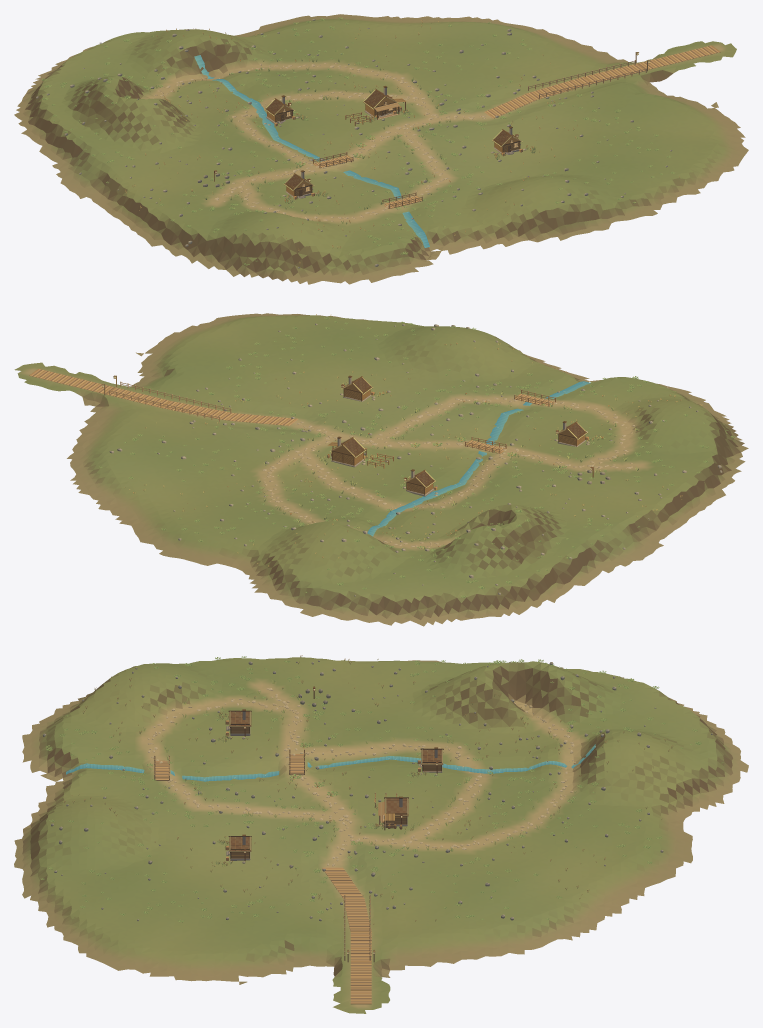
The model's file is extension_amber.glb.
3 views of the same model, one above another, from view 1: azimuth 30°, elevation 25°; view 2: azimuth 150°, elevation 25°; view 3: azimuth 270°, elevation 25° (orthographic). The views are drawn at different scales.
Visible parts, largest first — view 1: Erdrelief · Bernsteinhain · -17,1, Erdrelief · Bernsteinhain · -14,-2, Erdrelief · Bernsteinhain · -16,-2, Erdrelief · Bernsteinhain · -17,-1, Erdrelief · Bernsteinhain · -15,2, Erdrelief · Bernsteinhain · -17,0, Erdrelief · Bernsteinhain · -13,1, Erdrelief · Bernsteinhain · -13,-1, Erdrelief · Bernsteinhain · -14,2, Erdrelief · Bernsteinhain · -15,-2, Erdrelief · Bernsteinhain · -16,1, Erdrelief · Bernsteinhain · -13,-2 (+34 smaller); view 2: Erdrelief · Bernsteinhain · -17,2, Erdrelief · Bernsteinhain · -17,1, Erdrelief · Bernsteinhain · -16,3, Erdrelief · Bernsteinhain · -17,0, Erdrelief · Bernsteinhain · -17,-1, Erdrelief · Bernsteinhain · -13,-1, Erdrelief · Bernsteinhain · -13,2, Erdrelief · Bernsteinhain · -14,-1, Erdrelief · Bernsteinhain · -14,2, Erdrelief · Bernsteinhain · -13,1, Erdrelief · Bernsteinhain · -15,3, Erdrelief · Bernsteinhain · -16,2 (+32 smaller); view 3: Erdrelief · Bernsteinhain · -16,1, Erdrelief · Bernsteinhain · -16,2, Erdrelief · Bernsteinhain · -15,2, Erdrelief · Bernsteinhain · -12,-1, Erdrelief · Bernsteinhain · -16,-1, Erdrelief · Bernsteinhain · -14,2, Erdrelief · Bernsteinhain · -16,0, Erdrelief · Bernsteinhain · -13,1, Erdrelief · Bernsteinhain · -14,0, Erdrelief · Bernsteinhain · -14,-1, Erdrelief · Bernsteinhain · -13,-1, Erdrelief · Bernsteinhain · -13,2 (+32 smaller).
Part boxes in pixels (x1,y1,x2,y2): Erdrelief · Bernsteinhain · -17,1: (44, 94, 175, 198); Erdrelief · Bernsteinhain · -14,-2: (478, 175, 622, 242); Erdrelief · Bernsteinhain · -16,-2: (287, 218, 428, 284); Erdrelief · Bernsteinhain · -17,-1: (142, 198, 286, 269); Erdrelief · Bernsteinhain · -15,2: (162, 30, 311, 97); Erdrelief · Bernsteinhain · -17,0: (87, 160, 230, 236); Erdrelief · Bernsteinhain · -13,1: (409, 30, 558, 94); Erdrelief · Bernsteinhain · -13,-1: (519, 110, 669, 174); Erdrelief · Bernsteinhain · -14,2: (257, 19, 408, 75); Erdrelief · Bernsteinhain · -15,-2: (382, 196, 521, 265); Erdrelief · Bernsteinhain · -16,1: (131, 98, 271, 159); Erdrelief · Bernsteinhain · -13,-2: (574, 152, 703, 220); Erdrelief · Bernsteinhain · -17,2: (452, 521, 588, 616); Erdrelief · Bernsteinhain · -17,1: (510, 505, 663, 582); Erdrelief · Bernsteinhain · -16,3: (307, 549, 451, 626); Erdrelief · Bernsteinhain · -17,0: (566, 461, 712, 542); Erdrelief · Bernsteinhain · -17,-1: (622, 405, 745, 501); Erdrelief · Bernsteinhain · -13,-1: (228, 331, 383, 398); Erdrelief · Bernsteinhain · -13,2: (78, 455, 212, 527); Erdrelief · Bernsteinhain · -14,-1: (325, 354, 480, 419); Erdrelief · Bernsteinhain · -14,2: (155, 480, 310, 545); Erdrelief · Bernsteinhain · -13,1: (113, 417, 269, 479); Erdrelief · Bernsteinhain · -15,3: (236, 537, 352, 614); Erdrelief · Bernsteinhain · -16,2: (353, 524, 496, 586); Erdrelief · Bernsteinhain · -16,1: (388, 665, 517, 755); Erdrelief · Bernsteinhain · -16,2: (515, 663, 645, 753); Erdrelief · Bernsteinhain · -15,2: (516, 730, 645, 809); Erdrelief · Bernsteinhain · -12,-1: (133, 916, 263, 984); Erdrelief · Bernsteinhain · -16,-1: (134, 676, 263, 753); Erdrelief · Bernsteinhain · -14,2: (516, 807, 645, 871); Erdrelief · Bernsteinhain · -16,0: (261, 695, 390, 755); Erdrelief · Bernsteinhain · -13,1: (388, 863, 517, 921); Erdrelief · Bernsteinhain · -14,0: (261, 808, 390, 867); Erdrelief · Bernsteinhain · -14,-1: (133, 807, 263, 867); Erdrelief · Bernsteinhain · -13,-1: (133, 862, 263, 918); Erdrelief · Bernsteinhain · -13,2: (516, 864, 644, 930).
Bounding box in the file's own units: 120 × 8.52 × 103.
